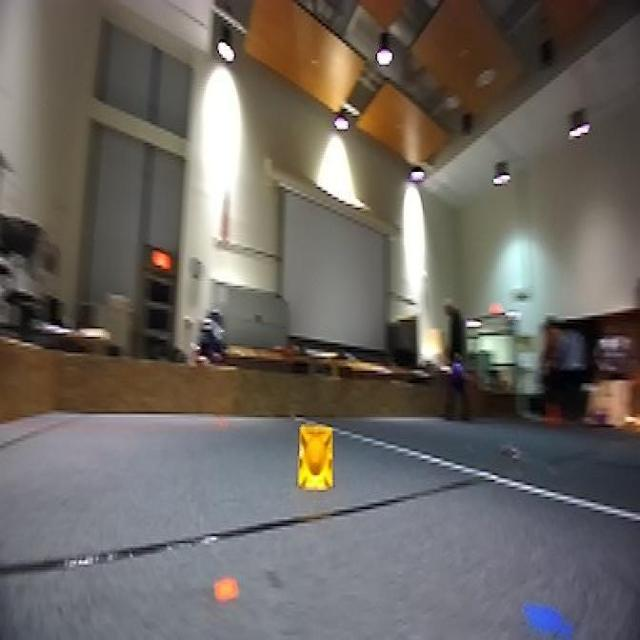frc_cone: (292, 420, 342, 497)
